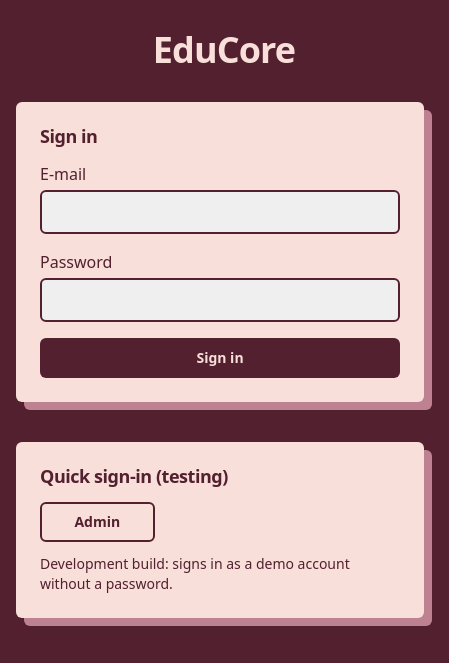
Test case: quick sign-in (testing) › shows the error and re-enables the buttons when demo sign-in fails
Click the button "Admin" at (97, 522), box [40, 502, 155, 542]
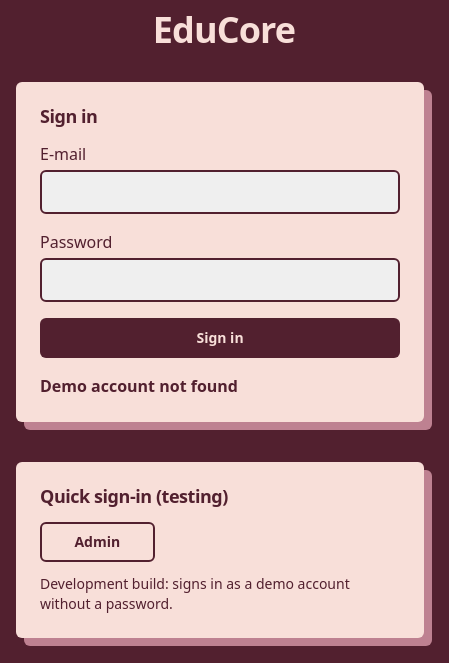
Check: the button "Admin" is enabled, box [40, 522, 155, 562]
Check: the message reads "Demo account not found", box [40, 375, 238, 397]
